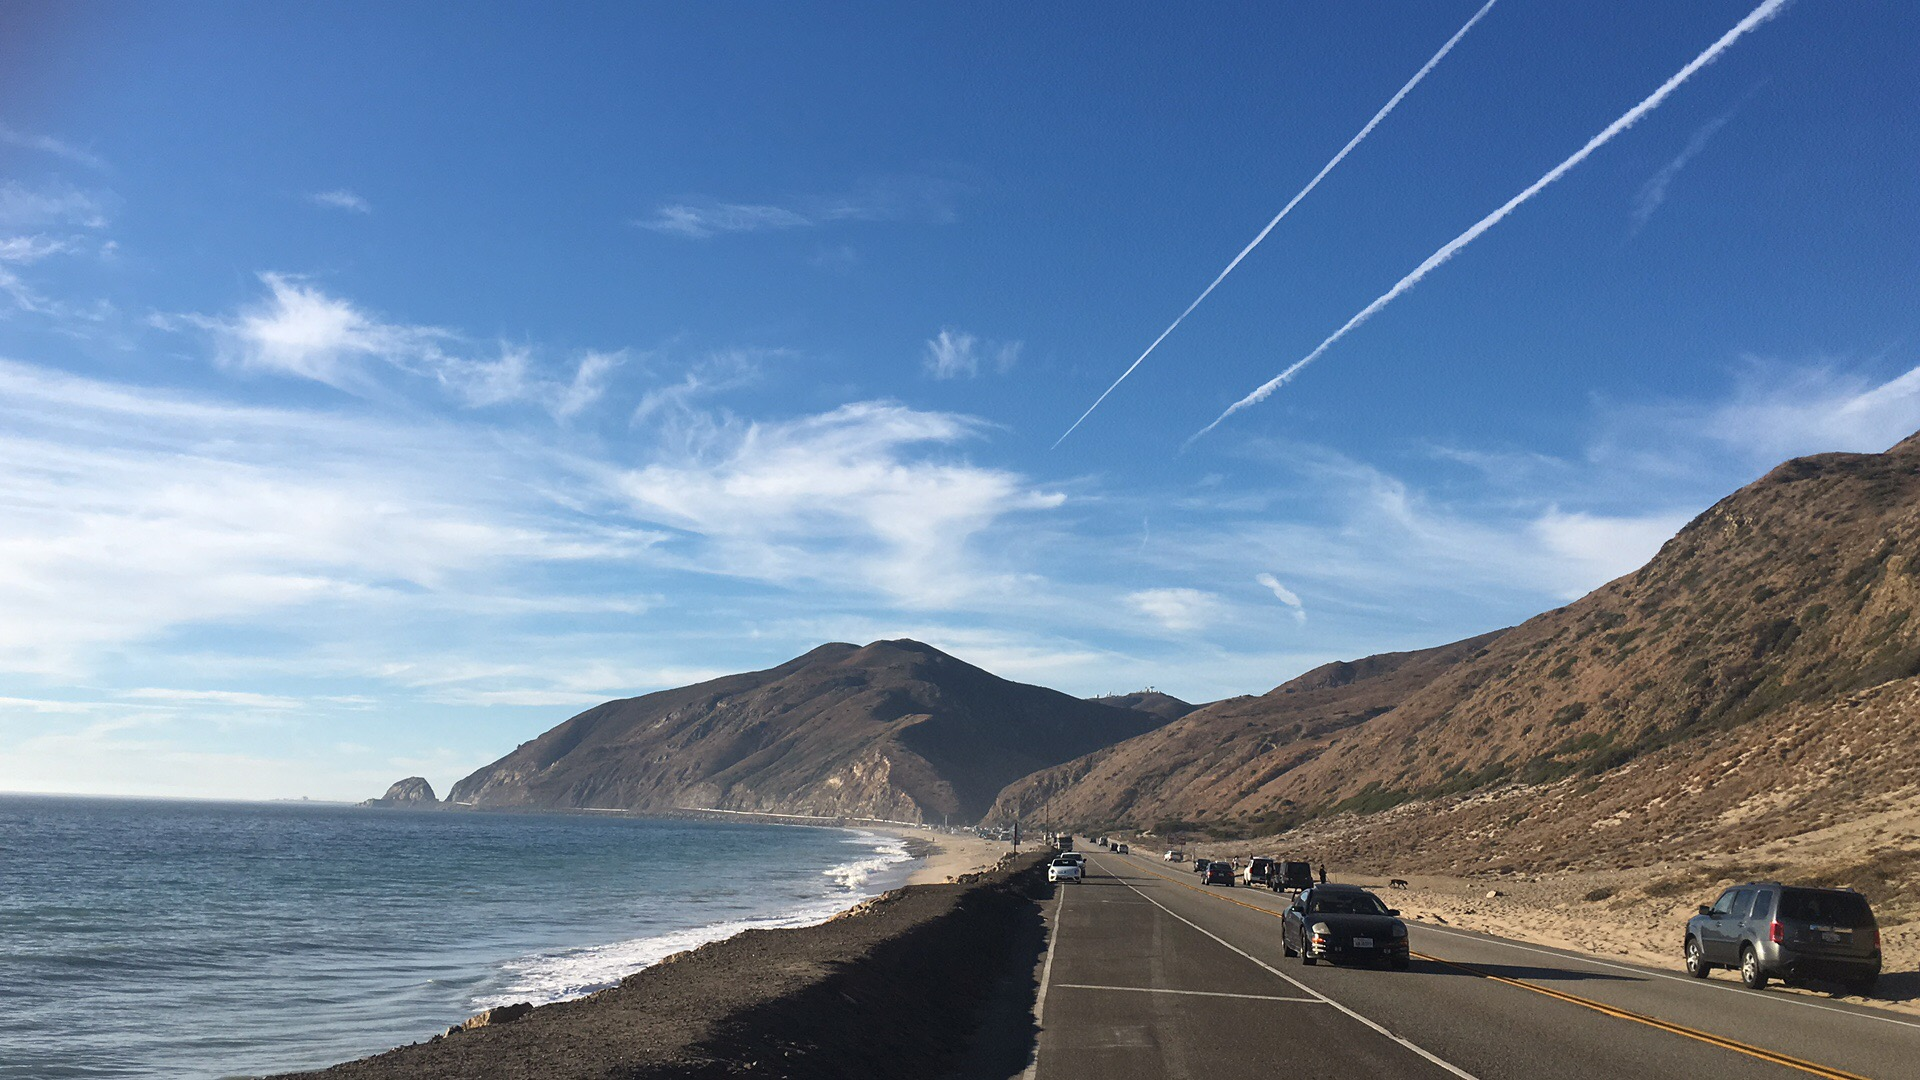Obstacle: (355, 881, 1038, 1080), (1684, 884, 1873, 997), (1284, 882, 1400, 965), (992, 844, 1085, 884)
